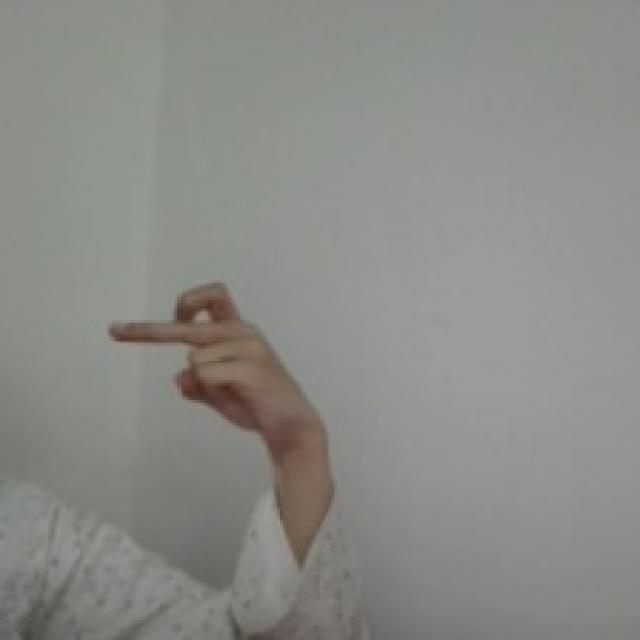sunday: (102, 275, 306, 446)
